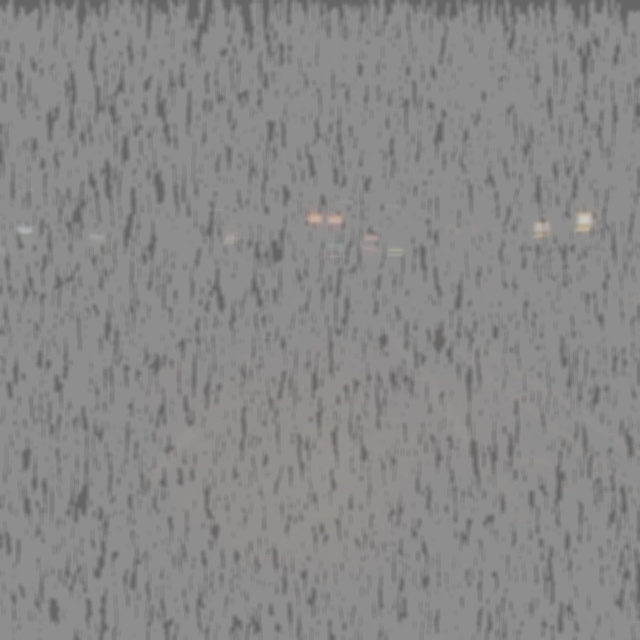stop: (332, 213, 338, 223), (311, 213, 317, 222), (369, 233, 372, 240)
stop traffic light: (309, 210, 319, 235), (330, 211, 339, 235), (368, 232, 372, 250)
